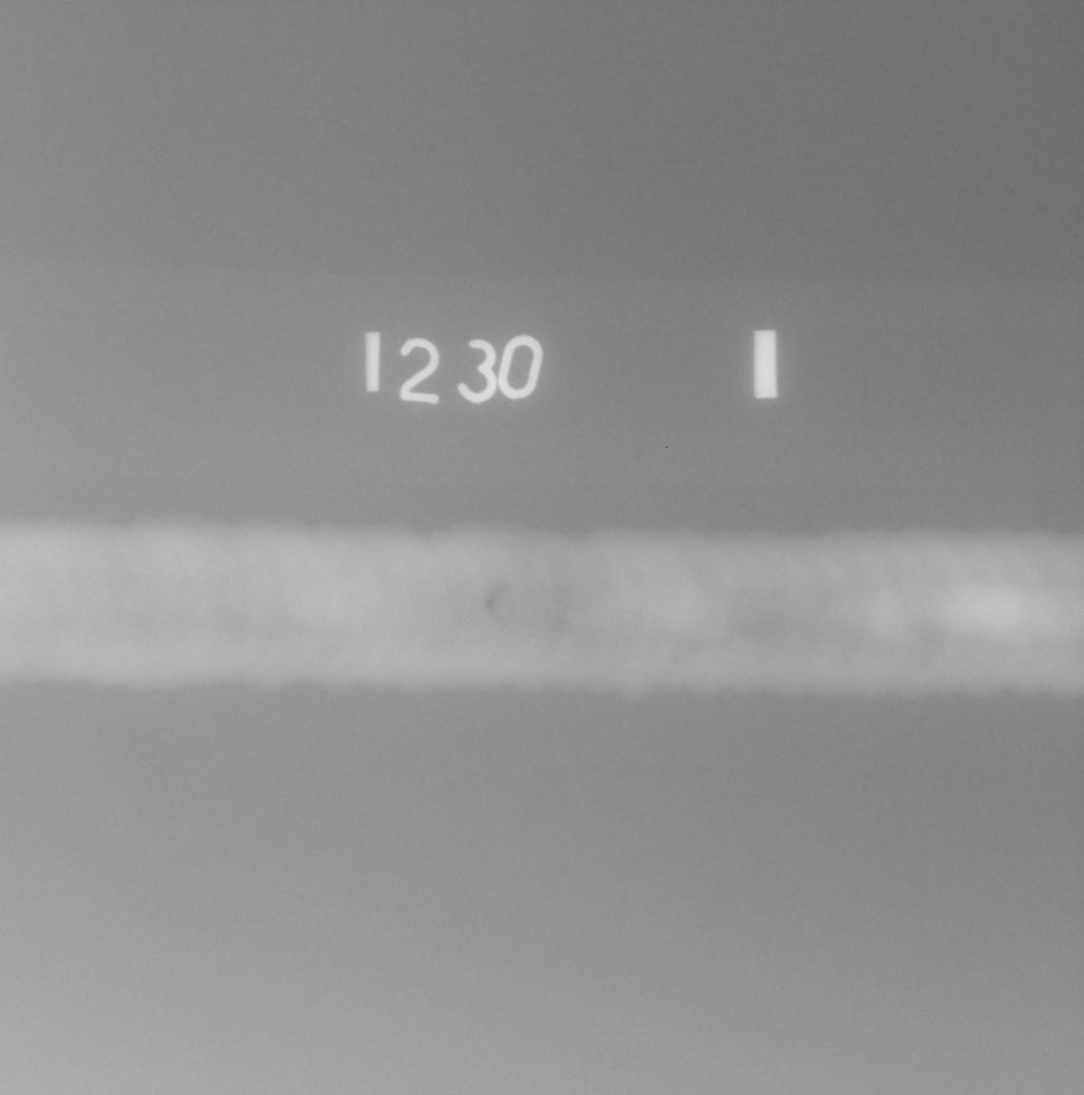Inclusion: (484, 580, 506, 620)
